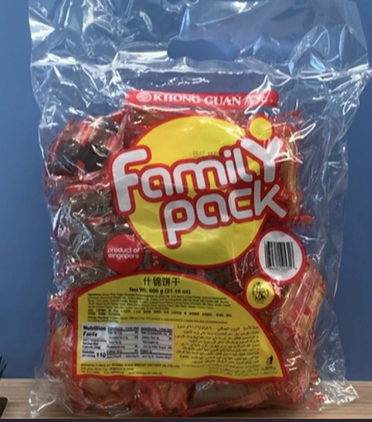cookies_550g: (75, 102, 310, 376)
